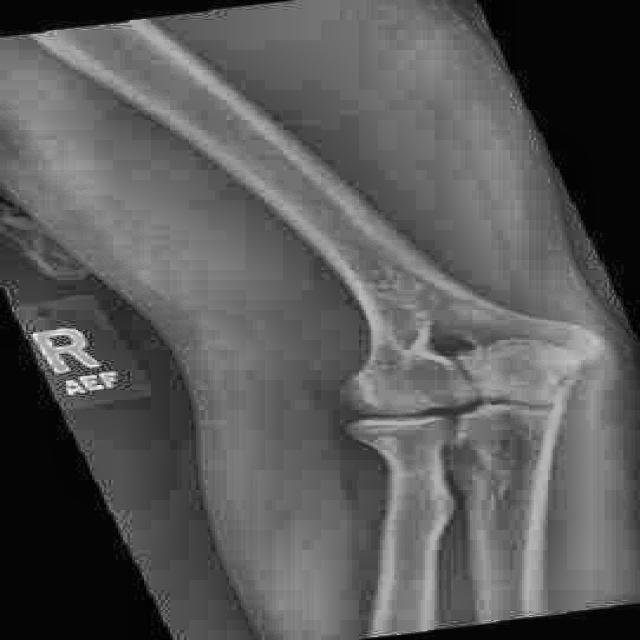elbow positive: (447, 271, 640, 446)
